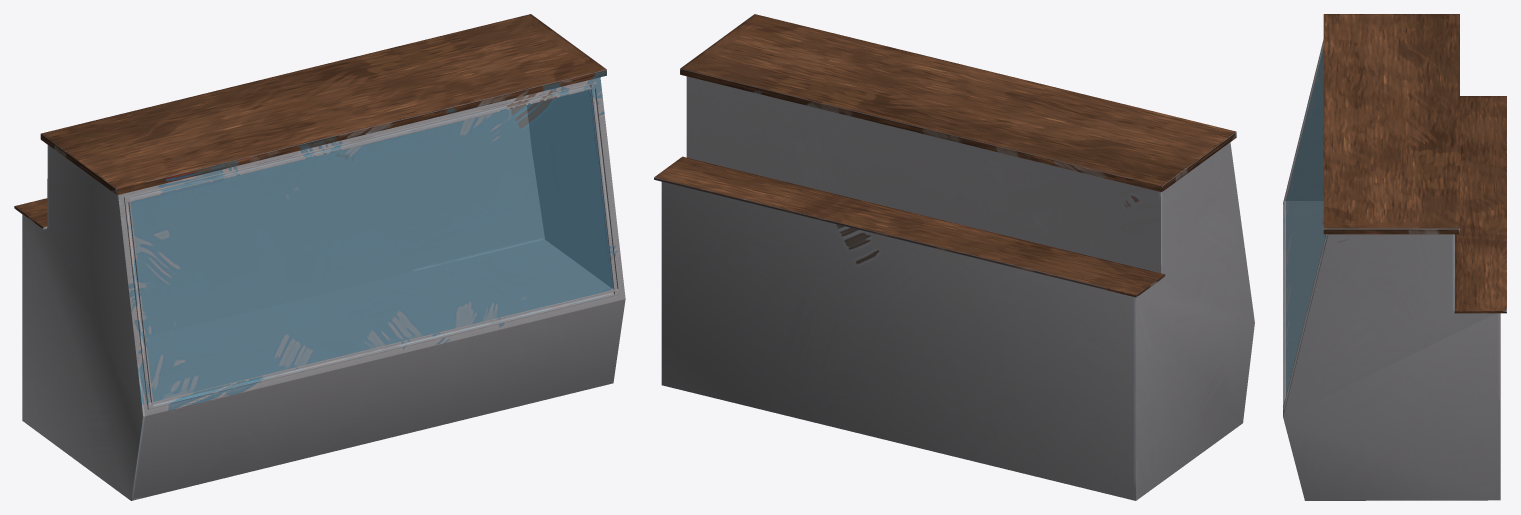
Rendered from lodówka.glb.
3 renders of one model, left to right at view 1: azimuth 30°, elevation 25°; view 2: azimuth 150°, elevation 25°; view 3: azimuth 270°, elevation 25°, orthographic. The views are drawn at different scales.
Parts seen in each view (by area): view 1: lodowka; view 2: lodowka; view 3: lodowka.
Part boxes in pixels (x1,y1,x2,y2): lodowka: [14, 14, 625, 500]; lodowka: [654, 14, 1254, 500]; lodowka: [1283, 14, 1506, 500].
Bounding box in the file's own units: 2.34 × 1.39 × 1.03.
1 material, 1 textured.
